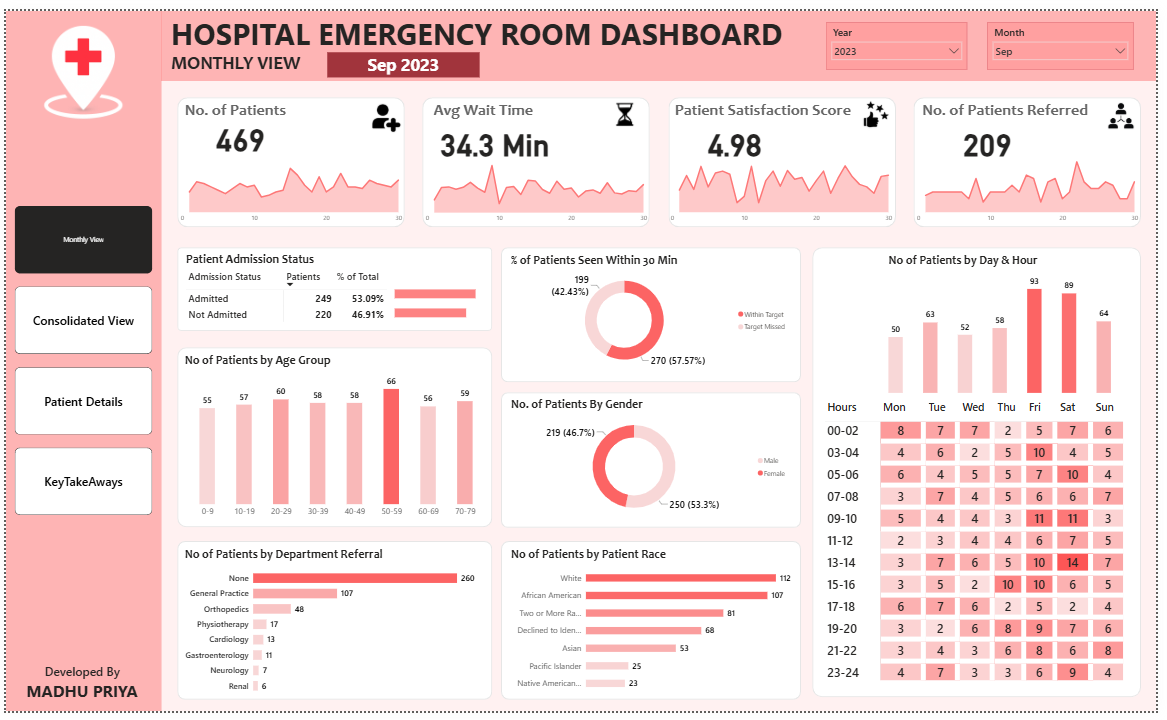

This screenshot's page, from the dashboard's own definition file:
{"tool":"powerbi","page":{"name":"Monthly View","canvas":[2300,1400],"ordinal":0},"visuals":[{"type":"shape","box":[342.5,172.5,455,260],"z":0},{"type":"shape","box":[0,0,311.1,1400],"z":1000},{"type":"shape","box":[309.2,0,1990.8,140],"z":2000},{"type":"textbox","box":[325.7,0,1245.9,90.4],"z":3000},{"type":"textbox","box":[325,75,282.5,65],"z":4000},{"type":"card","fields":{"Values":["Date Table.No of Patients"]},"box":[355,200,227.5,102.5],"z":5000},{"type":"slicer","fields":{"Values":["Date Table.Year"]},"box":[1640,22.5,282.5,95],"z":6000},{"type":"slicer","fields":{"Values":["Date Table.Month"]},"box":[1962.5,22.5,292.5,95],"z":7000},{"type":"textbox","box":[352.5,172.5,255,65],"z":8000},{"type":"areaChart","fields":{"Category":["Date Table.Date.Variation.Date Hierarchy.Day"],"Y":["Date Table.No of Patients"]},"box":[337.5,287.5,462.5,145],"z":9000},{"type":"card","fields":{"Values":["Min(Date Table.Month & Year)"]},"box":[642.5,82.5,305,50],"z":10000},{"type":"shape","box":[833.3,172.5,455,260],"z":11000},{"type":"shape","box":[1324.2,172.5,455,260],"z":12000},{"type":"shape","box":[1815,172.5,455,260],"z":13000},{"type":"textbox","box":[850,172.5,255,65],"z":14000},{"type":"card","fields":{"Values":["Hospital ER_Data.Avg Wait Time"]},"box":[860,217.5,235,85],"z":15000},{"type":"areaChart","fields":{"Category":["Date Table.Date.Variation.Date Hierarchy.Day"],"Y":["Avg(Hospital ER_Data.Patient Waittime)"]},"box":[827.5,287.5,462.5,145],"z":16000},{"type":"textbox","box":[1332.5,172.5,447.5,65],"z":17000},{"type":"card","fields":{"Values":["Hospital ER_Data.Satisfaction Score"]},"box":[1340,217.5,235,85],"z":18000},{"type":"areaChart","fields":{"Category":["Date Table.Date.Variation.Date Hierarchy.Day"],"Y":["Hospital ER_Data.Satisfaction Score"]},"box":[1317.5,287.5,462.5,145],"z":19000},{"type":"textbox","box":[1827.5,172.5,425,65],"z":20000},{"type":"card","fields":{"Values":["Hospital ER_Data.No. of Patients Referred"]},"box":[1845,217.5,235,85],"z":21000},{"type":"areaChart","fields":{"Category":["Date Table.Date.Variation.Date Hierarchy.Day"],"Y":["Hospital ER_Data.No. of Patients Referred"]},"box":[1810,287.5,462,145],"z":22000},{"type":"shape","box":[1612.5,472.5,657.5,900],"z":23000},{"type":"shape","box":[342.5,472.5,630,167.5],"z":24000},{"type":"pivotTable","title":"Patient Admission Status","fields":{"Rows":["Hospital ER_Data.Admission Status"],"Values":["Date Table.No of Patients1","Divide(Date Table.No of Patients, ScopedEval(Date Table.No of Patients, []))"]},"box":[355,480,617.5,160],"z":25000},{"type":"barChart","fields":{"Category":["Hospital ER_Data.Admission Status"],"Y":["Date Table.No of Patients"]},"box":[772.5,525,205,115],"z":26000},{"type":"shape","box":[342.5,672.5,630,360],"z":27000},{"type":"clusteredColumnChart","fields":{"Category":["Hospital ER_Data.Age Group"],"Y":["Date Table.No of Patients"]},"box":[352.5,682.5,617.5,340],"z":28000},{"type":"shape","box":[991.1,762.2,600,271.1],"z":29000},{"type":"shape","box":[342.5,1060,630,317.5],"z":30000},{"type":"clusteredBarChart","fields":{"Category":["Hospital ER_Data.Department Referral"],"Y":["Date Table.No of Patients"]},"box":[352.5,1070,617.5,307.5],"z":31000},{"type":"shape","box":[990,472.5,600,270],"z":32000},{"type":"donutChart","title":"% of Patients Seen Within 30 Min","fields":{"Category":["Hospital ER_Data.Wait Time Status"],"Y":["Date Table.No of Patients"]},"box":[1005,482.5,567.5,242.5],"z":33000},{"type":"donutChart","title":"No. of Patients By Gender","fields":{"Y":["Date Table.No of Patients"],"Category":["Hospital ER_Data.Patient Gender"]},"box":[1005,770,567.5,252.5],"z":34000},{"type":"shape","box":[990,1060,600,317.5],"z":35000},{"type":"clusteredBarChart","fields":{"Category":["Hospital ER_Data.Patient Race"],"Y":["Date Table.No of Patients"]},"box":[1005,1070,570,302.5],"z":36000},{"type":"pivotTable","fields":{"Rows":["Hospital ER_Data.Wait Time Interval"],"Columns":["Date Table.Day"],"Values":["Date Table.No of Patients"]},"box":[1632.5,770,640,602.5],"z":37000},{"type":"columnChart","title":"No of Patients by Day & Hour","fields":{"Category":["Date Table.Day"],"Y":["Date Table.No of Patients"]},"box":[1760,482.5,457.5,287.5],"z":38000},{"type":"image","box":[2187.5,172.5,85,80],"z":39000},{"type":"image","box":[17.5,0,275,237.5],"z":40000},{"type":"pageNavigator","box":[17.5,390,275,620],"z":41000},{"type":"textbox","box":[0,1300,310,100],"z":42000},{"type":"image","box":[717.5,180,77.5,67.5],"z":42001},{"type":"image","box":[1685,172.5,100,67.5],"z":42002},{"type":"image","box":[1205,172.5,85,67.5],"z":42003}]}

Visuals, with their boxes in screenshot pixels (x1, y1, x2, y2), scaled from the page's 2300x1400 canvas onto the 1167x720 screenshot:
shape: detection(174, 89, 405, 222)
shape: detection(0, 0, 158, 719)
shape: detection(157, 0, 1166, 72)
textbox: detection(165, 0, 797, 46)
textbox: detection(165, 39, 308, 72)
card - Date Table.No of Patients: detection(180, 103, 296, 156)
slicer - Date Table.Year: detection(832, 12, 975, 60)
slicer - Date Table.Month: detection(996, 12, 1144, 60)
textbox: detection(179, 89, 308, 122)
areaChart - Date Table.Date.Variation.Date Hierarchy.Day x Date Table.No of Patients: detection(171, 148, 406, 222)
card - Min(Date Table.Month & Year): detection(326, 42, 481, 68)
shape: detection(423, 89, 654, 222)
shape: detection(672, 89, 903, 222)
shape: detection(921, 89, 1152, 222)
textbox: detection(431, 89, 561, 122)
card - Hospital ER_Data.Avg Wait Time: detection(436, 112, 556, 156)
areaChart - Date Table.Date.Variation.Date Hierarchy.Day x Avg(Hospital ER_Data.Patient Waittime): detection(420, 148, 655, 222)
textbox: detection(676, 89, 903, 122)
card - Hospital ER_Data.Satisfaction Score: detection(680, 112, 799, 156)
areaChart - Date Table.Date.Variation.Date Hierarchy.Day x Hospital ER_Data.Satisfaction Score: detection(668, 148, 903, 222)
textbox: detection(927, 89, 1143, 122)
card - Hospital ER_Data.No. of Patients Referred: detection(936, 112, 1055, 156)
areaChart - Date Table.Date.Variation.Date Hierarchy.Day x Hospital ER_Data.No. of Patients Referred: detection(918, 148, 1153, 222)
shape: detection(818, 243, 1152, 706)
shape: detection(174, 243, 493, 329)
"Patient Admission Status" pivotTable: detection(180, 247, 493, 329)
barChart - Hospital ER_Data.Admission Status x Date Table.No of Patients: detection(392, 270, 496, 329)
shape: detection(174, 346, 493, 531)
clusteredColumnChart - Hospital ER_Data.Age Group x Date Table.No of Patients: detection(179, 351, 492, 526)
shape: detection(503, 392, 807, 531)
shape: detection(174, 545, 493, 708)
clusteredBarChart - Hospital ER_Data.Department Referral x Date Table.No of Patients: detection(179, 550, 492, 708)
shape: detection(502, 243, 807, 382)
"% of Patients Seen Within 30 Min" donutChart: detection(510, 248, 798, 373)
"No. of Patients By Gender" donutChart: detection(510, 396, 798, 526)
shape: detection(502, 545, 807, 708)
clusteredBarChart - Hospital ER_Data.Patient Race x Date Table.No of Patients: detection(510, 550, 799, 706)
pivotTable - Hospital ER_Data.Wait Time Interval x Date Table.Day: detection(828, 396, 1153, 706)
"No of Patients by Day & Hour" columnChart: detection(893, 248, 1125, 396)
image: detection(1110, 89, 1153, 130)
image: detection(9, 0, 148, 122)
pageNavigator: detection(9, 201, 148, 519)
textbox: detection(0, 669, 157, 719)
image: detection(364, 93, 403, 127)
image: detection(855, 89, 906, 123)
image: detection(611, 89, 655, 123)
